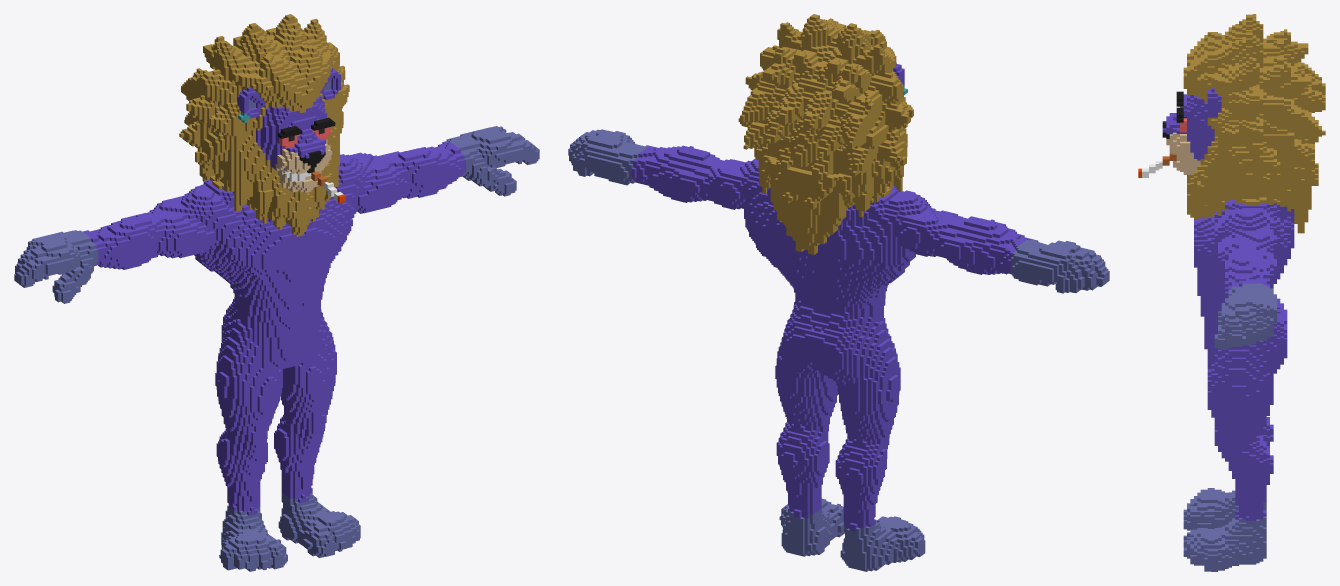
File: 640-CePR9uqS.glb
3 views of the same model, side by side, from view 1: azimuth 30°, elevation 25°; view 2: azimuth 150°, elevation 25°; view 3: azimuth 270°, elevation 25° (orthographic). The views are drawn at different scales.
Visible parts, largest first — view 1: cigarette; view 2: cigarette; view 3: cigarette.
Part boxes in pixels (bbox=[...]): cigarette: bbox=[14, 14, 539, 571]; cigarette: bbox=[568, 14, 1109, 571]; cigarette: bbox=[1138, 14, 1325, 571].
Size of the model in its own units: 17.2 by 16.5 by 5.4.
Materials: 5 (5 with a texture image).
